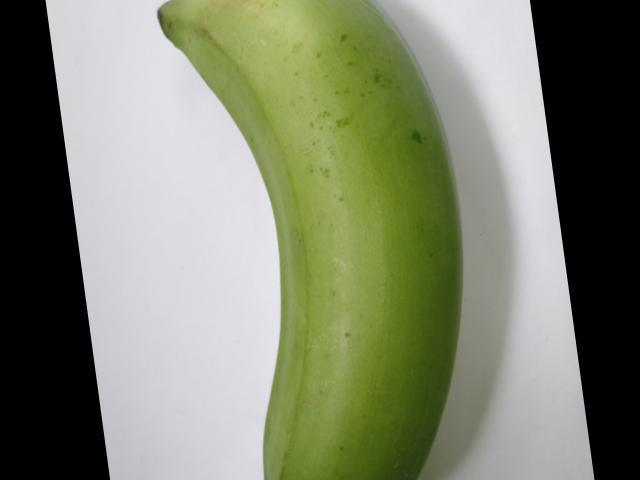freshunripe: (129, 0, 505, 479)
